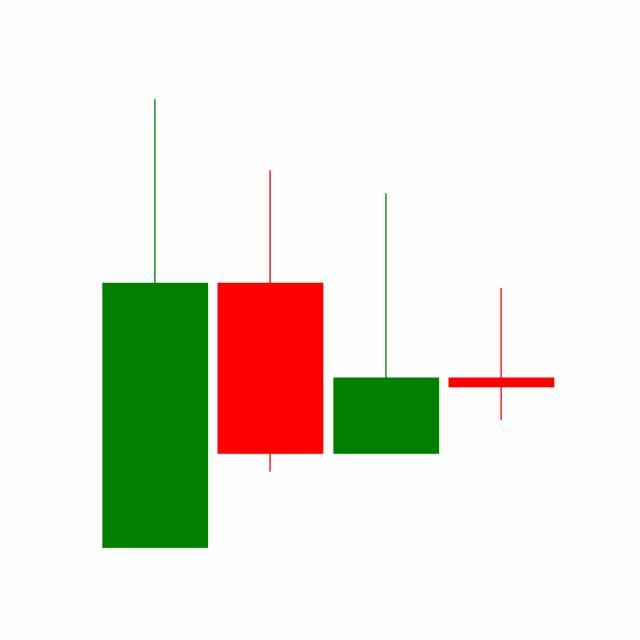Spinning Top: (444, 287, 560, 423)
